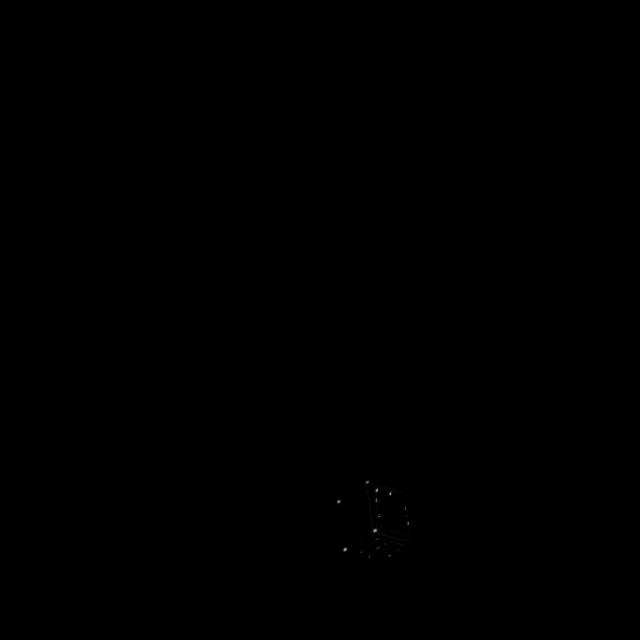medium_debris: (323, 472, 423, 589)
